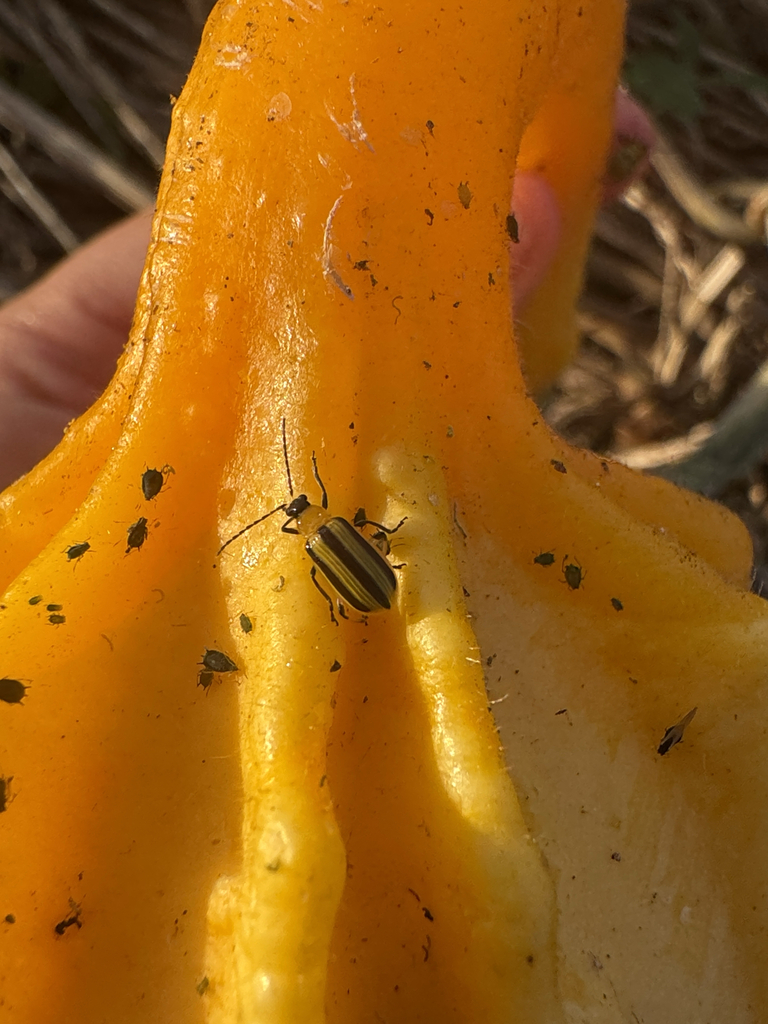potato_beetle: (173, 371, 501, 703)
